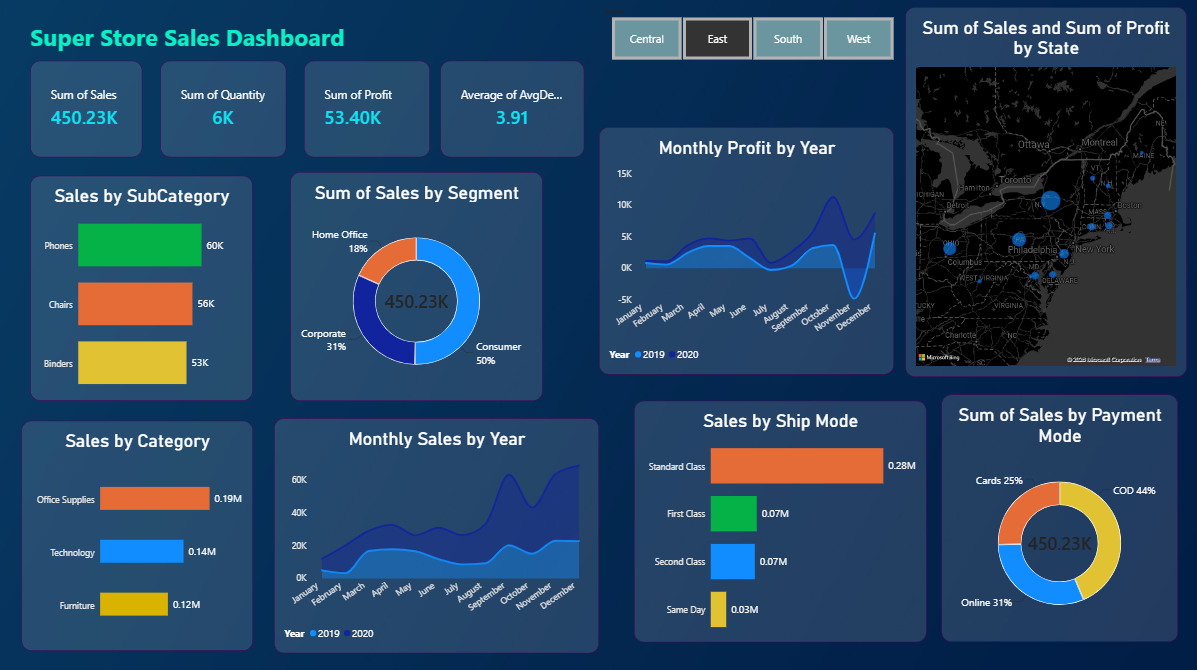

The page's visual inventory and layout, read from the dashboard file:
{"tool":"powerbi","page":{"name":"Page 1","canvas":[1920,1080],"ordinal":0},"visuals":[{"type":"clusteredBarChart","title":"Sales by Category","fields":{"Category":["SuperStore_Sales_Dataset.Category"],"Y":["Sum(SuperStore_Sales_Dataset.Sales)"]},"box":[36,678,370,368],"z":0},{"type":"clusteredBarChart","title":"Sales by SubCategory","fields":{"Category":["SuperStore_Sales_Dataset.Sub-Category"],"Y":["Sum(SuperStore_Sales_Dataset.Sales)"]},"box":[50,286,356,360],"z":1000},{"type":"clusteredBarChart","title":"Sales by Ship Mode","fields":{"Category":["SuperStore_Sales_Dataset.Ship Mode"],"Y":["Sum(SuperStore_Sales_Dataset.Sales)"]},"box":[1016,646,468,386],"z":2000},{"type":"stackedAreaChart","title":"Monthly Sales by Year","fields":{"Category":["SuperStore_Sales_Dataset.Order Date.Variation.Date Hierarchy.Month","SuperStore_Sales_Dataset.Order Date.Variation.Date Hierarchy.Day"],"Series":["SuperStore_Sales_Dataset.Order Date.Variation.Date Hierarchy.Year"],"Y":["Sum(SuperStore_Sales_Dataset.Sales)"]},"box":[440,674,520,376],"z":3000},{"type":"stackedAreaChart","title":"Monthly Profit by Year","fields":{"Category":["SuperStore_Sales_Dataset.Order Date.Variation.Date Hierarchy.Month","SuperStore_Sales_Dataset.Order Date.Variation.Date Hierarchy.Day"],"Series":["SuperStore_Sales_Dataset.Order Date.Variation.Date Hierarchy.Year"],"Y":["Sum(SuperStore_Sales_Dataset.Profit)"]},"box":[960,208,472,396],"z":4000},{"type":"map","fields":{"Category":["SuperStore_Sales_Dataset.State"],"Size":["Sum(SuperStore_Sales_Dataset.Sales)"]},"box":[1450,16,450,592],"z":5000},{"type":"donutChart","fields":{"Category":["SuperStore_Sales_Dataset.Segment"],"Y":["Sum(SuperStore_Sales_Dataset.Sales)"]},"box":[466,280,404,366],"z":6000},{"type":"donutChart","fields":{"Category":["SuperStore_Sales_Dataset.Payment Mode"],"Y":["Sum(SuperStore_Sales_Dataset.Sales)"]},"box":[1508,636,378,396],"z":7000},{"type":"slicer","fields":{"Values":["SuperStore_Sales_Dataset.Region"]},"box":[960,16,490,86],"z":8000},{"type":"textbox","box":[49.4,37,617.5,63.8],"z":9000},{"type":"cardVisual","fields":{"Data":["Sum(SuperStore_Sales_Dataset.Sales)"]},"box":[50,102,179.1,154.4],"z":10000},{"type":"cardVisual","fields":{"Data":["Sum(SuperStore_Sales_Dataset.Quantity)"]},"box":[258,102,201.7,154.4],"z":11000},{"type":"cardVisual","fields":{"Data":["Sum(SuperStore_Sales_Dataset.Profit)"]},"box":[488,102,201.7,154.4],"z":11001},{"type":"cardVisual","fields":{"Data":["Avg(SuperStore_Sales_Dataset.AvgDelivery)"]},"box":[706,102,230.5,154.4],"z":11002}]}

Visuals, with their boxes in screenshot pixels (x1, y1, x2, y2), scaled from the page's 1920x1080 canvas onto the 1197x670 screenshot:
"Sales by Category" clusteredBarChart: [22,421,253,649]
"Sales by SubCategory" clusteredBarChart: [31,177,253,401]
"Sales by Ship Mode" clusteredBarChart: [633,401,925,640]
"Monthly Sales by Year" stackedAreaChart: [274,418,598,651]
"Monthly Profit by Year" stackedAreaChart: [598,129,893,375]
map - SuperStore_Sales_Dataset.State x Sum(SuperStore_Sales_Dataset.Sales): [904,10,1185,377]
donutChart - SuperStore_Sales_Dataset.Segment x Sum(SuperStore_Sales_Dataset.Sales): [291,174,542,401]
donutChart - SuperStore_Sales_Dataset.Payment Mode x Sum(SuperStore_Sales_Dataset.Sales): [940,395,1176,640]
slicer - SuperStore_Sales_Dataset.Region: [598,10,904,63]
textbox: [31,23,416,63]
cardVisual - Sum(SuperStore_Sales_Dataset.Sales): [31,63,143,159]
cardVisual - Sum(SuperStore_Sales_Dataset.Quantity): [161,63,287,159]
cardVisual - Sum(SuperStore_Sales_Dataset.Profit): [304,63,430,159]
cardVisual - Avg(SuperStore_Sales_Dataset.AvgDelivery): [440,63,584,159]
